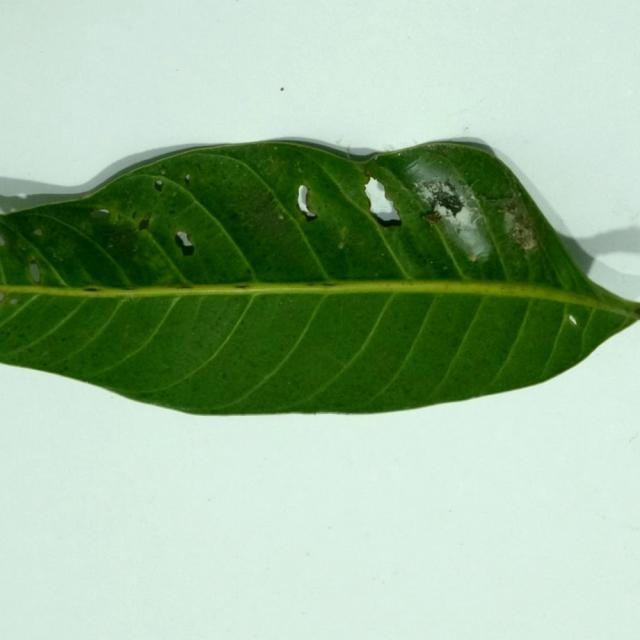Anthracnose: (266, 298, 420, 406), (153, 303, 265, 393), (1, 296, 122, 373), (471, 297, 546, 395), (111, 206, 197, 281), (339, 168, 405, 246), (7, 218, 78, 288)
Mango: (0, 140, 639, 419)
